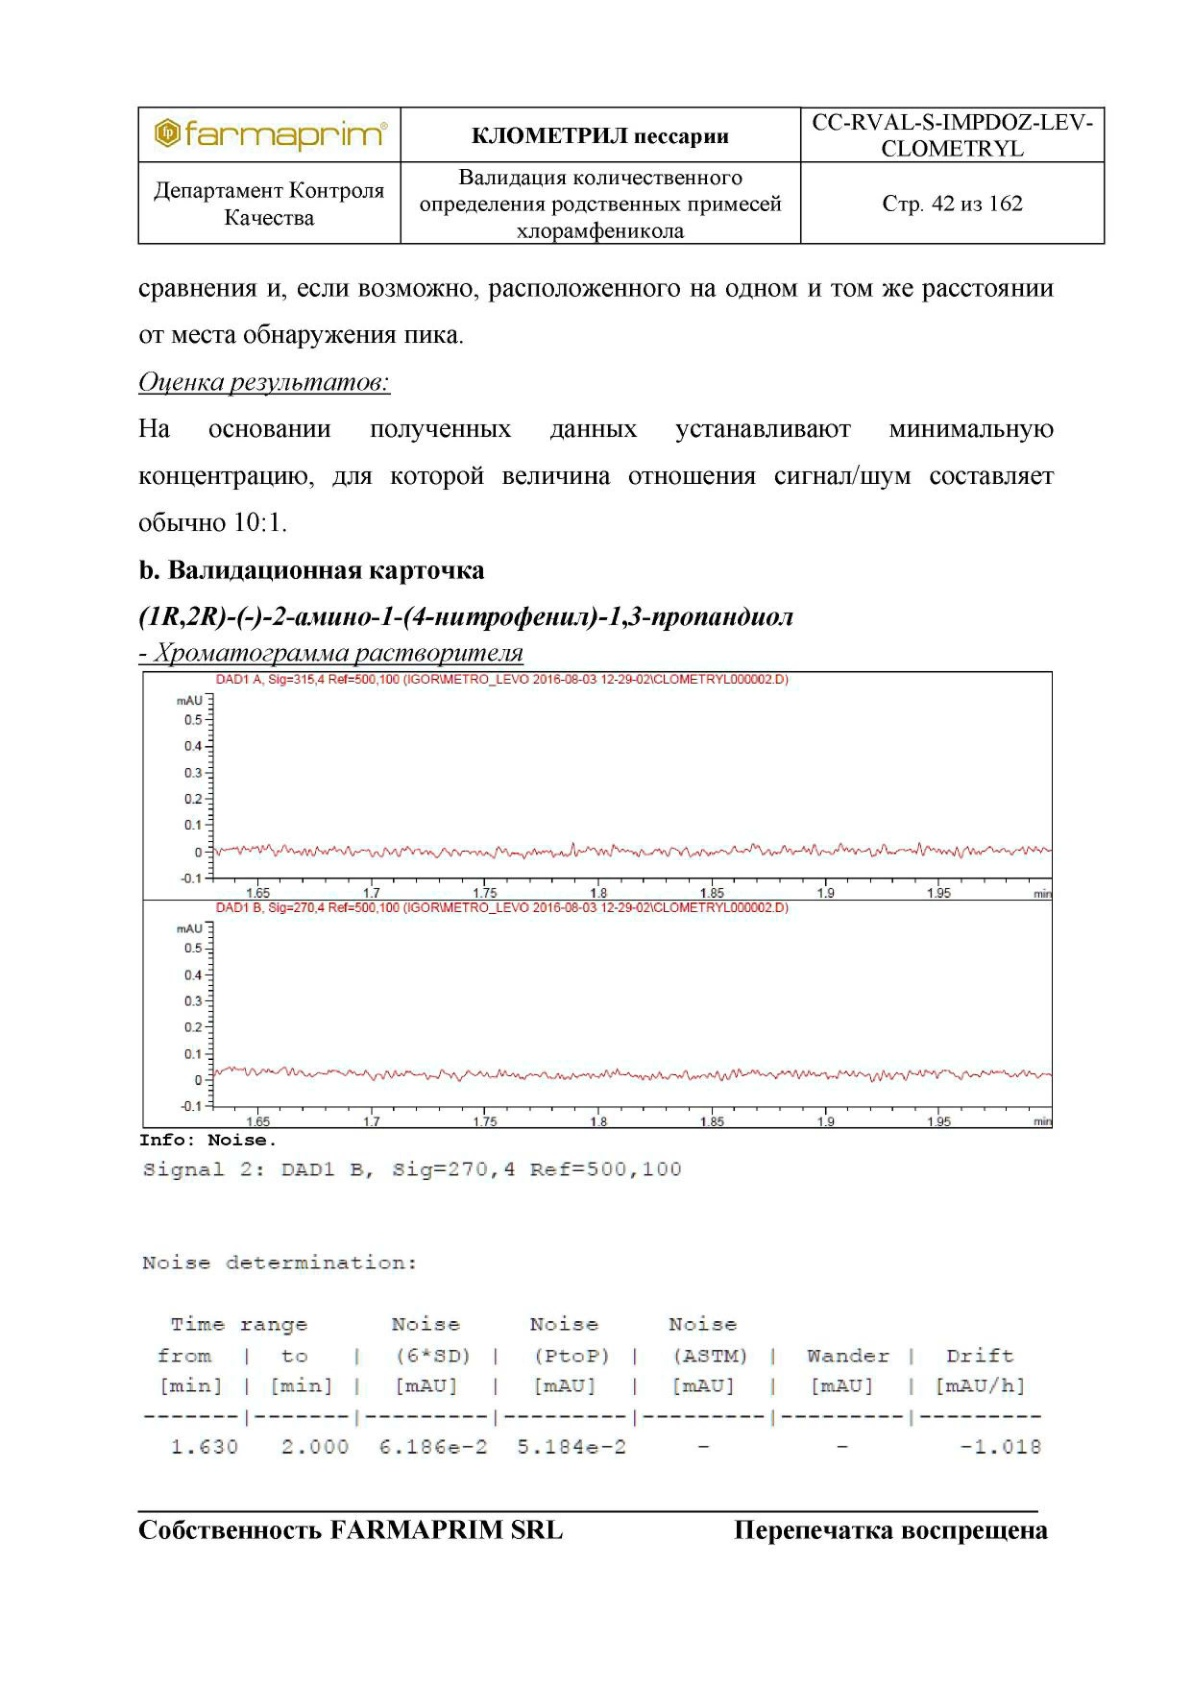full_lined: (137, 106, 1107, 245)
partial_lined: (142, 1313, 1046, 1464)
